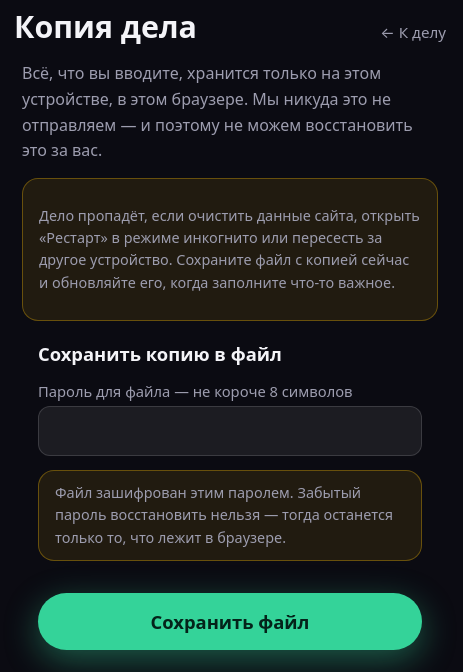
it: BackupPage › saves an encrypted file and warns that a forgotten passphrase is final
Type "коробка-с-документами" into the password field labelled "Пароль для файла — не короче 8 символов" at (230, 431), box 38,406 -> 422,456
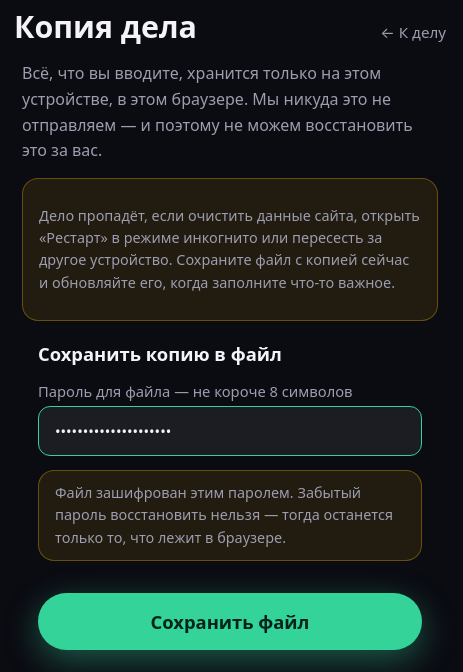
Click the button "Сохранить файл" at (230, 622), box 38,593 -> 422,650
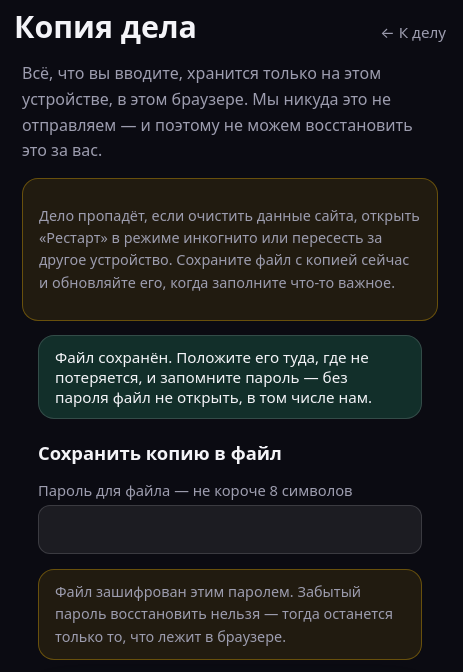
Check: the message shows "без пароля", box 55,347 -> 372,407
